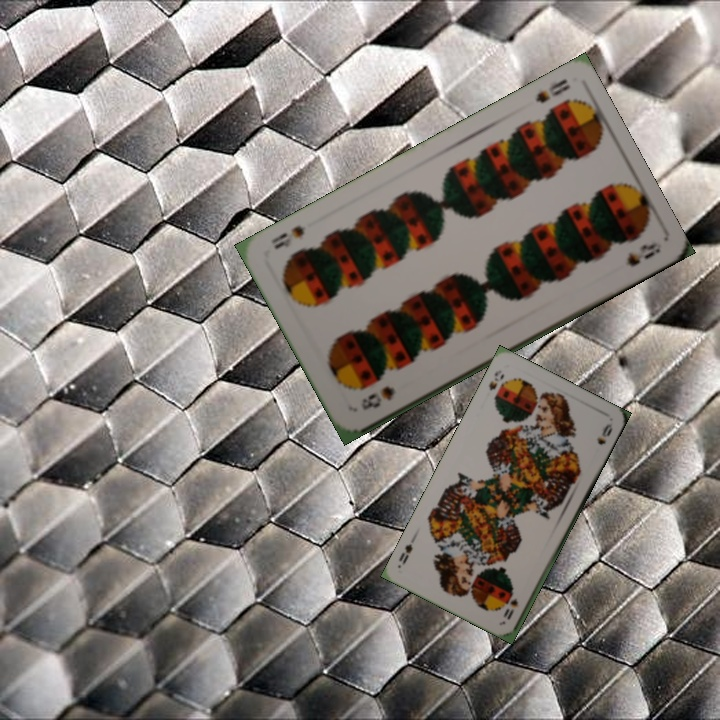S8: (531, 75, 573, 106), (357, 382, 397, 413)
SO: (485, 366, 507, 393), (503, 594, 521, 622)
